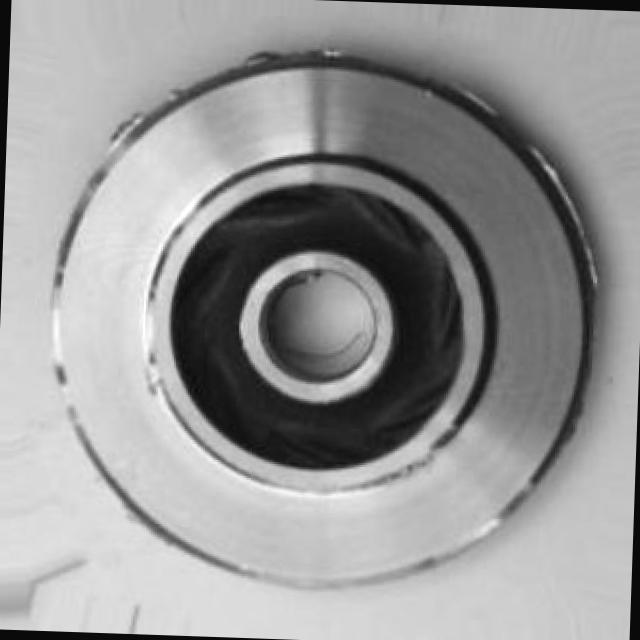Defect: (242, 40, 288, 69)
